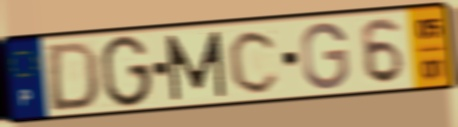6: (359, 16, 407, 87)
C: (226, 27, 282, 96)
D: (47, 39, 102, 114)
G: (99, 33, 154, 111), (299, 20, 352, 92)
M: (163, 28, 229, 104)
